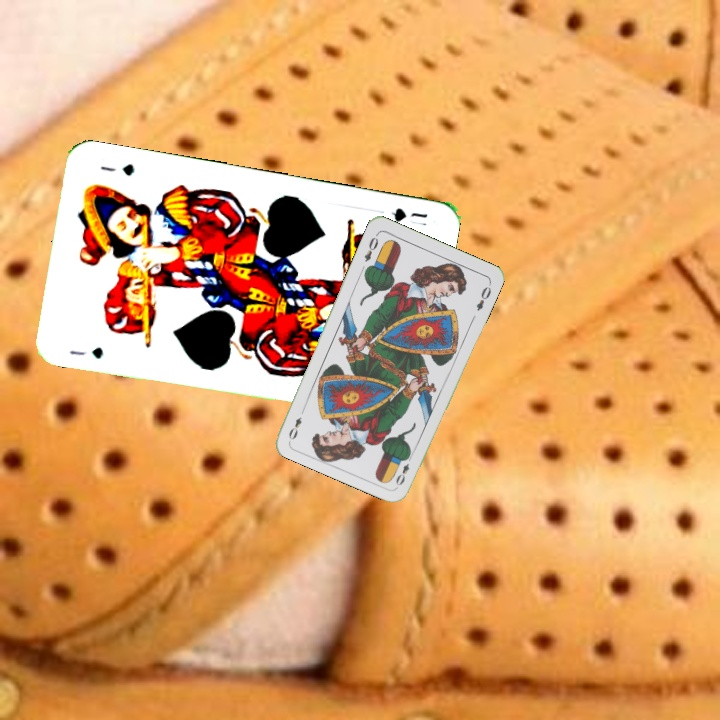EO: (392, 450, 415, 488), (360, 230, 381, 264)
GU: (388, 204, 430, 229), (65, 343, 106, 362)
